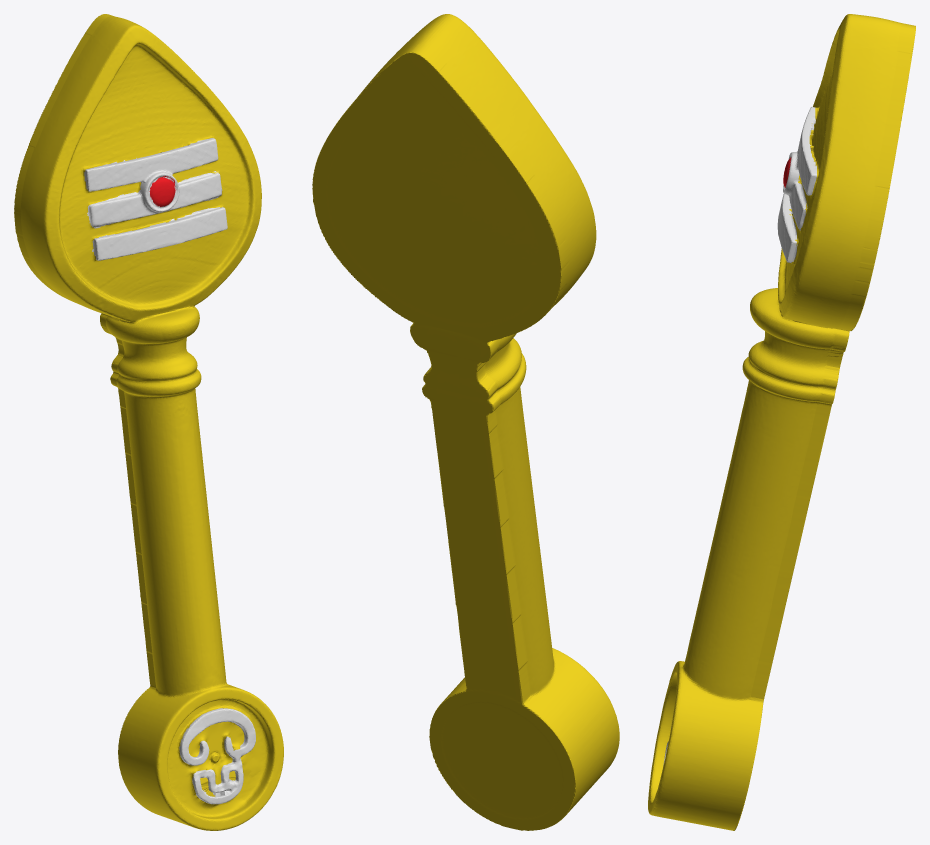
The model's file is gopuram_vel-optimized.glb.
3 views of the same model, side by side, from view 1: azimuth 30°, elevation 25°; view 2: azimuth 150°, elevation 25°; view 3: azimuth 270°, elevation 25° (orthographic). The views are drawn at different scales.
Visible parts, largest first — view 1: Mesh.002; view 2: Mesh.002; view 3: Mesh.002.
Boxes of the visible parts, box(x1,y1,x2,y2) form: Mesh.002: box(14, 14, 283, 830); Mesh.002: box(312, 14, 619, 830); Mesh.002: box(648, 14, 915, 830).
Bounding box in the file's own units: 13.69 × 45.15 × 13.58.
